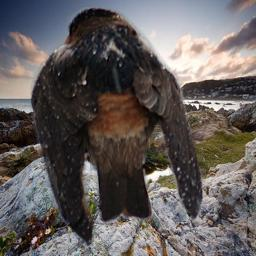Swallow: (30, 7, 206, 248)
